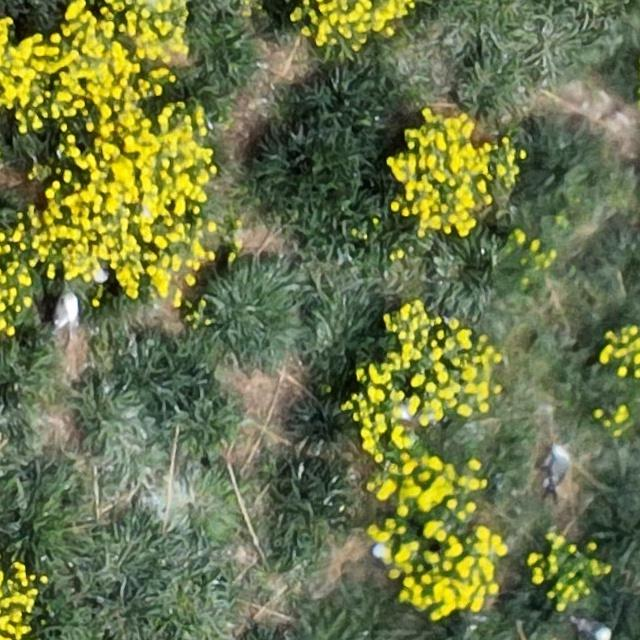umineko: (54, 291, 82, 333), (576, 615, 612, 639), (554, 443, 570, 489)
